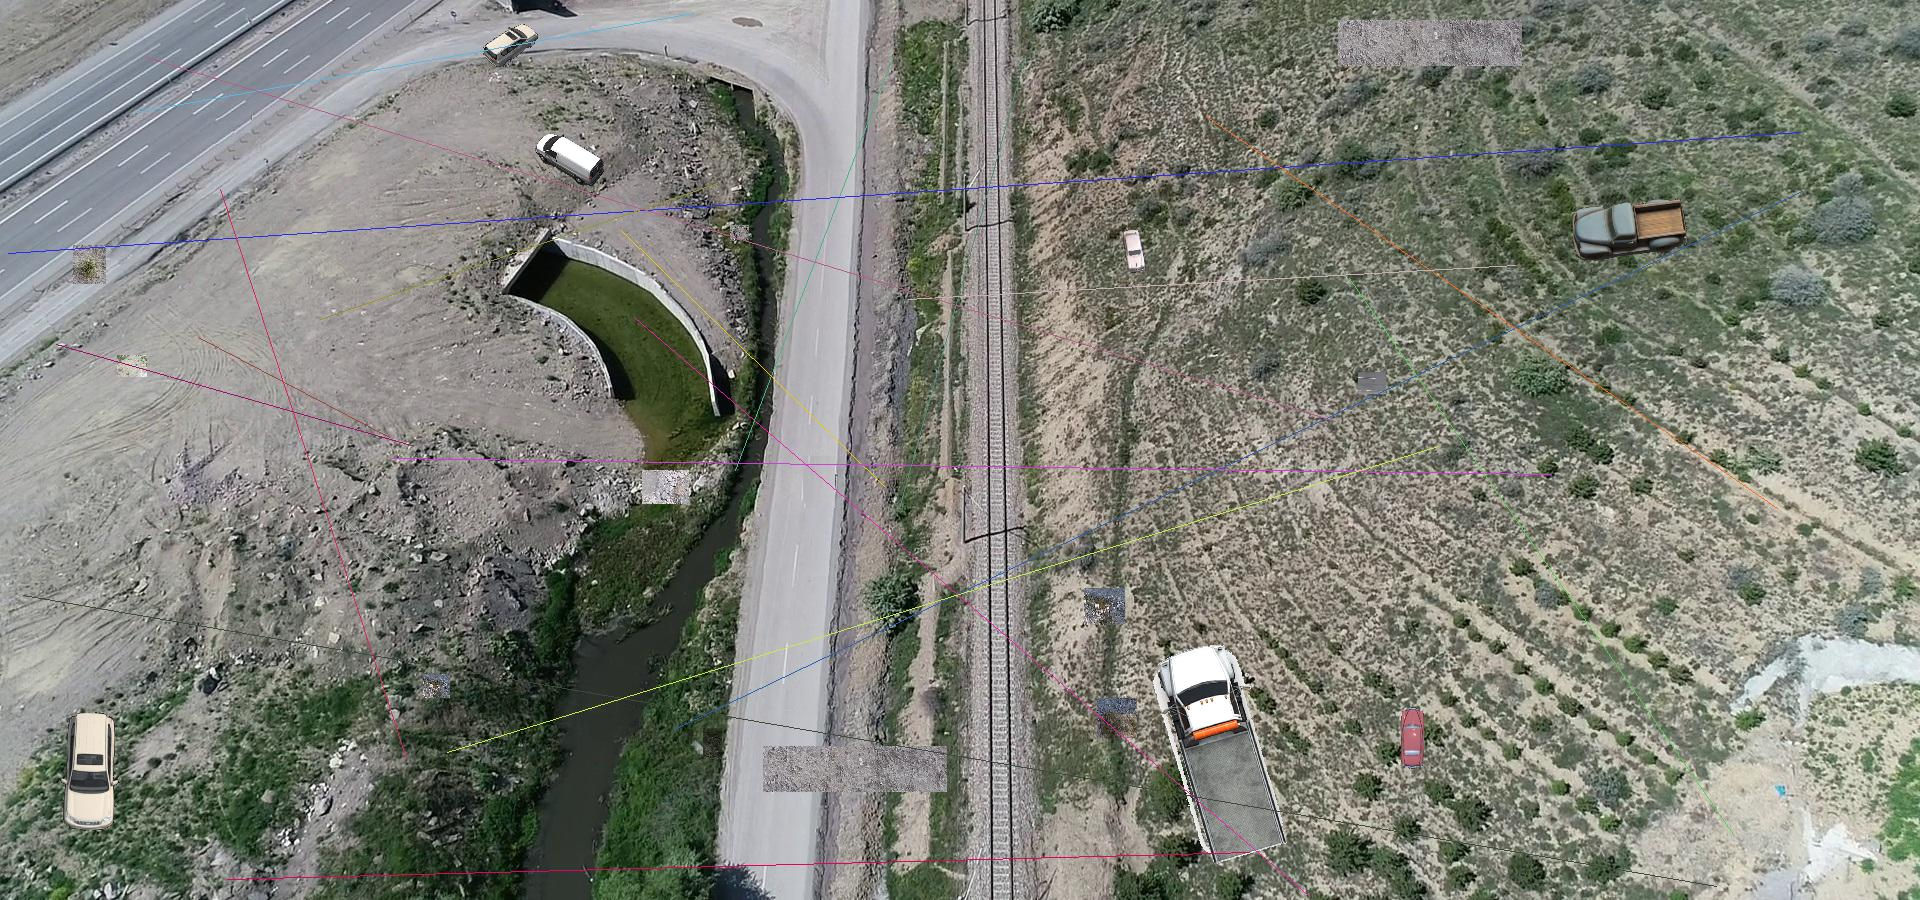arac: (1151, 642, 1293, 864), (1573, 197, 1690, 263), (59, 711, 122, 831), (535, 131, 605, 186), (482, 24, 539, 69), (1400, 707, 1427, 770), (1120, 228, 1149, 273)
